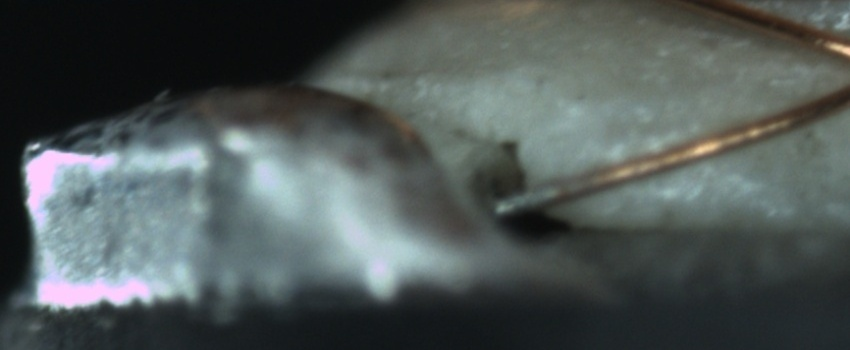TS: (492, 174, 572, 218)
